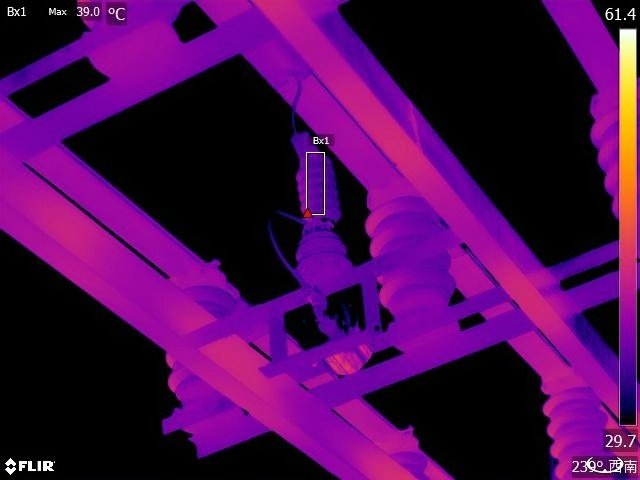lightning arrester: (286, 141, 342, 229)
post insulator: (153, 265, 255, 415), (367, 183, 455, 321), (538, 366, 620, 480), (592, 90, 640, 226)
